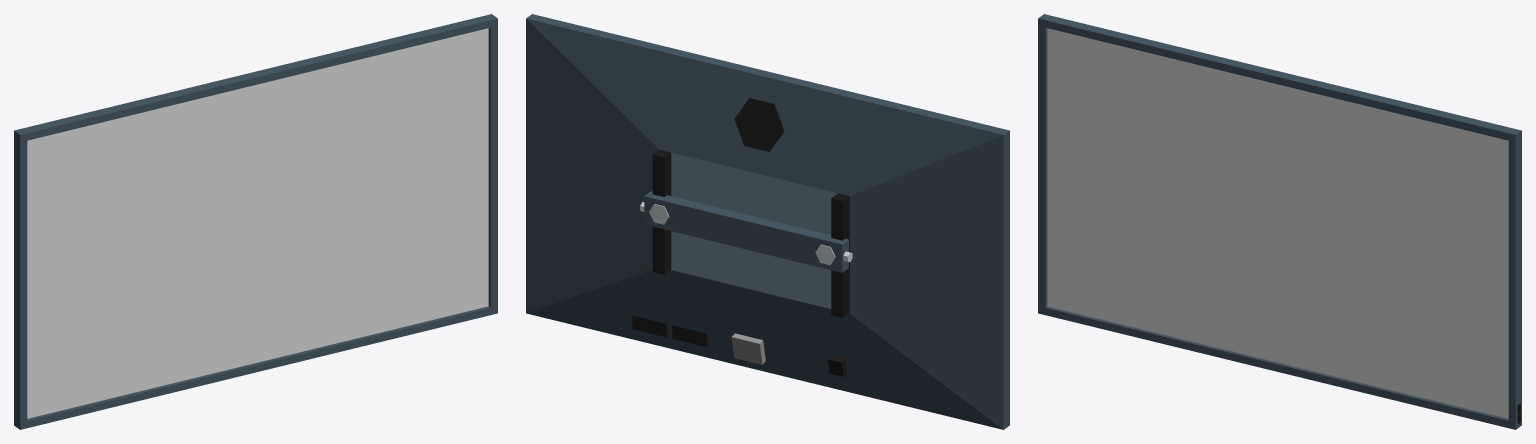
The model's file is Screen.fbx.
3 views of the same model, side by side, from view 1: azimuth 30°, elevation 25°; view 2: azimuth 150°, elevation 25°; view 3: azimuth 330°, elevation 25° (orthographic).
Visible parts, largest first — view 1: group1454904968; view 2: group1454904968, group596176051, group1601593260, group1257628551, group1840578182, group207519990, group1468930754, group1923268096; view 3: group1454904968.
Part boxes in pixels (x1,y1,x2,y2): group1454904968: (14, 14, 497, 429); group1454904968: (526, 14, 1009, 429); group596176051: (644, 191, 848, 272); group1601593260: (734, 98, 784, 151); group1257628551: (652, 150, 671, 274); group1840578182: (831, 193, 849, 318); group207519990: (731, 333, 765, 364); group1468930754: (632, 315, 668, 337); group1923268096: (672, 325, 708, 346); group1454904968: (1038, 14, 1521, 429).
Bounding box in the file's own units: 406 × 239 × 40.63.
